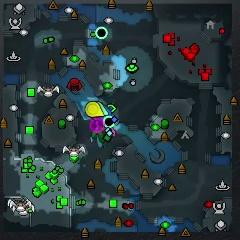Other: (90, 118, 104, 133)
p1: (103, 104, 111, 116)
p2: (96, 101, 107, 115)
p2Clone: (96, 27, 108, 39), (104, 116, 115, 127)
p4: (85, 101, 103, 116)
x1: (110, 128, 117, 137)
x3: (90, 135, 102, 147)
x4: (91, 130, 105, 143)
